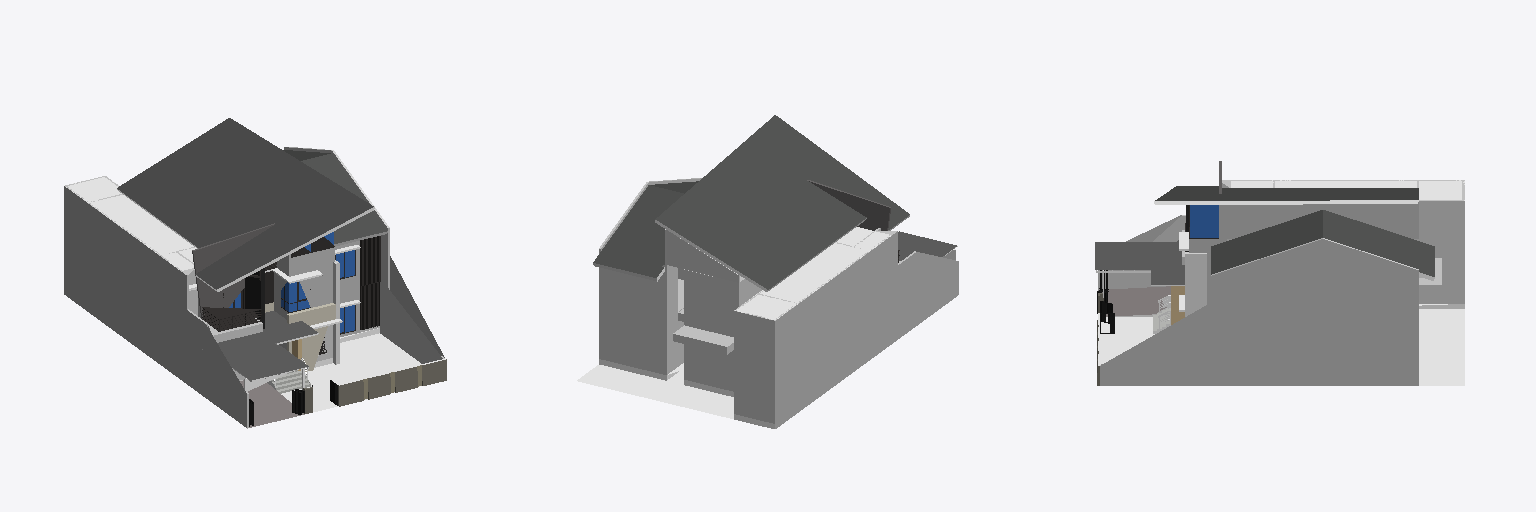
Rendered from Home3.obj.
The picture shows the model from 3 angles: view 1: azimuth 30°, elevation 25°; view 2: azimuth 150°, elevation 25°; view 3: azimuth 270°, elevation 25°; orthographic projection.
Visible parts, largest first — view 1: Mesh83 Group49 Model, Mesh31 Group18 Model, Mesh92 Group58 Model, Mesh90 Group56 Model, Mesh252 Group106 Model, Mesh331 Model, Mesh79 Group46 Model, Mesh23 Group11 Model, Mesh49 Group29 Model, Mesh84 Group50 Model, Mesh21 Group9 Group6 Model, Mesh89 Group55 Model (+4 smaller); view 2: Mesh83 Group49 Model, Mesh31 Group18 Model, Mesh92 Group58 Model, Mesh84 Group50 Model, Mesh331 Model, Mesh89 Group55 Model, Mesh252 Group106 Model, Mesh23 Group11 Model, Mesh79 Group46 Model, Mesh48 Group28 Model, Mesh21 Group9 Group6 Model; view 3: Mesh90 Group56 Model, Mesh31 Group18 Model, Mesh92 Group58 Model, Mesh84 Group50 Model, Mesh252 Group106 Model, Mesh83 Group49 Model, Mesh81 Group47 Model, Mesh79 Group46 Model, Mesh89 Group55 Model, Mesh331 Model, Mesh21 Group9 Group6 Model, Mesh23 Group11 Model (+3 smaller).
Boxes of the visible parts, <box> form: Mesh83 Group49 Model: <box>117,118,374,291</box>; Mesh31 Group18 Model: <box>64,176,359,333</box>; Mesh92 Group58 Model: <box>64,242,379,389</box>; Mesh90 Group56 Model: <box>284,147,444,363</box>; Mesh252 Group106 Model: <box>281,334,420,411</box>; Mesh331 Model: <box>66,177,196,270</box>; Mesh79 Group46 Model: <box>64,289,379,427</box>; Mesh23 Group11 Model: <box>202,321,248,428</box>; Mesh49 Group29 Model: <box>338,359,446,406</box>; Mesh84 Group50 Model: <box>283,150,387,246</box>; Mesh21 Group9 Group6 Model: <box>219,343,308,380</box>; Mesh89 Group55 Model: <box>64,234,359,342</box>; Mesh83 Group49 Model: <box>655,115,909,291</box>; Mesh31 Group18 Model: <box>599,180,912,368</box>; Mesh92 Group58 Model: <box>599,277,912,423</box>; Mesh84 Group50 Model: <box>593,181,698,281</box>; Mesh331 Model: <box>735,227,890,319</box>; Mesh89 Group55 Model: <box>599,269,912,376</box>; Mesh252 Group106 Model: <box>577,365,733,418</box>; Mesh23 Group11 Model: <box>912,251,958,327</box>; Mesh79 Group46 Model: <box>599,324,912,428</box>; Mesh48 Group28 Model: <box>667,230,739,282</box>; Mesh21 Group9 Group6 Model: <box>898,231,956,260</box>; Mesh90 Group56 Model: <box>1100,238,1418,385</box>; Mesh31 Group18 Model: <box>1189,161,1464,325</box>; Mesh92 Group58 Model: <box>1207,257,1464,380</box>; Mesh84 Group50 Model: <box>1211,210,1434,280</box>; Mesh252 Group106 Model: <box>1100,309,1464,385</box>; Mesh83 Group49 Model: <box>1154,186,1418,204</box>; Mesh81 Group47 Model: <box>1219,203,1418,238</box>; Mesh79 Group46 Model: <box>1098,286,1464,385</box>; Mesh89 Group55 Model: <box>1207,249,1464,333</box>; Mesh331 Model: <box>1231,180,1464,200</box>; Mesh21 Group9 Group6 Model: <box>1095,242,1175,269</box>; Mesh23 Group11 Model: <box>1098,215,1185,289</box>.
Bounding box in the file's own units: 596 × 468 × 958.